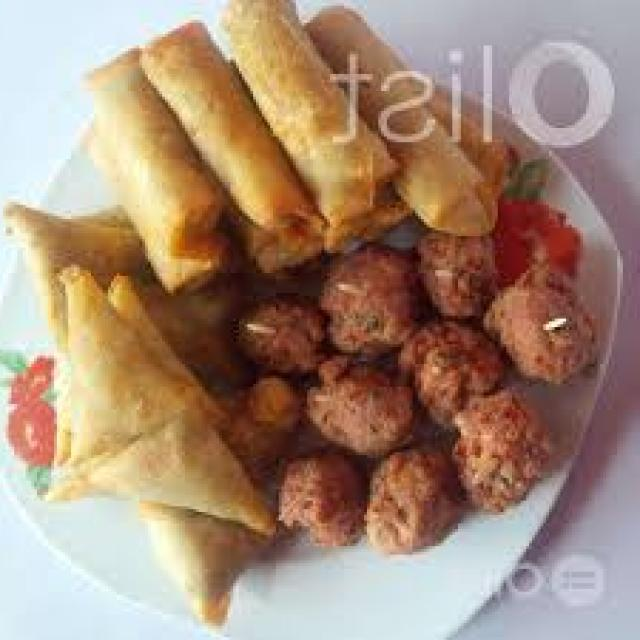Samosa: (26, 197, 233, 618)
Spring Rolls: (108, 0, 486, 258)
